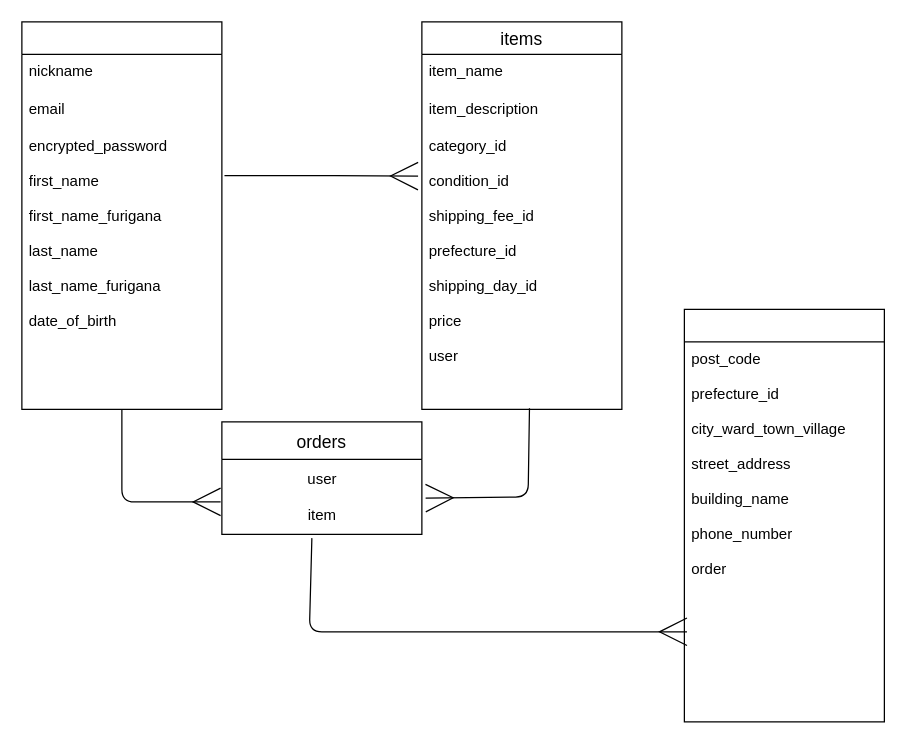
The diagram is 906 pixels wide and 748 high, and some of its shapes have lost their labels. Here are the shapes that lost their labels. From the top down, the box of each, then its label:
(21, 21, 222, 409): users
(683, 308, 884, 722): addresses
